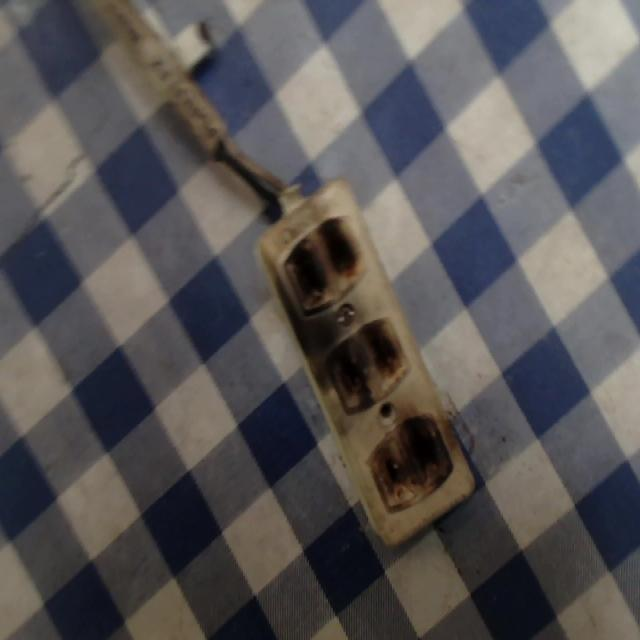-: (321, 310, 409, 414), (280, 209, 364, 316), (366, 411, 452, 513)
